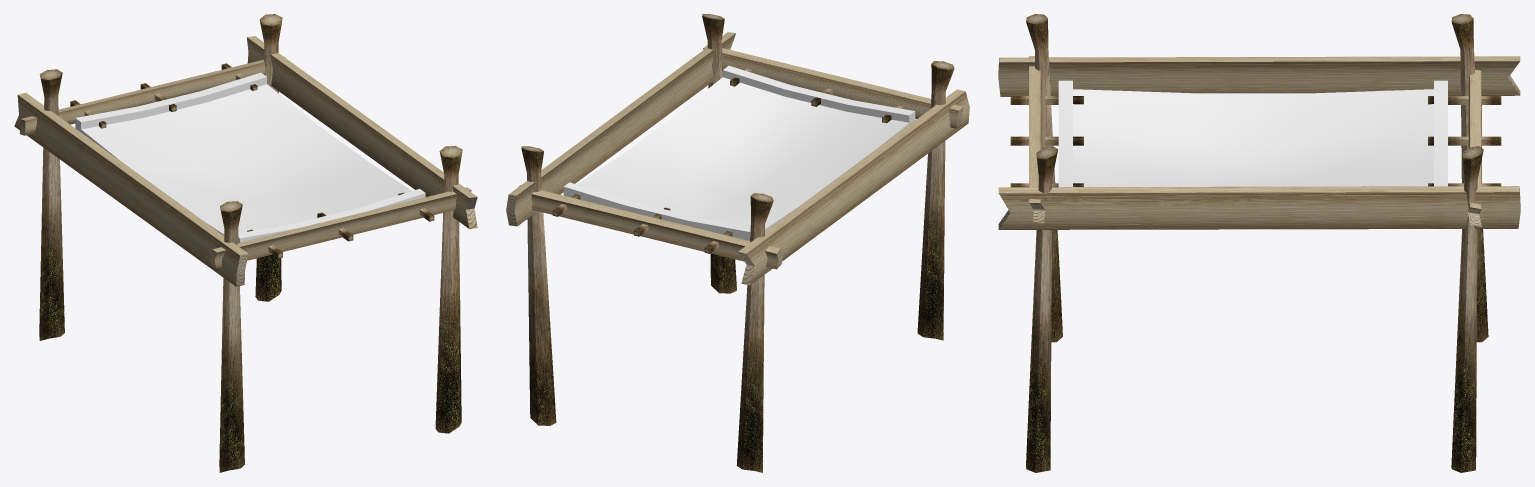
The model's file is p2_platform_trampoline.fbx.
The picture shows the model from 3 angles, left to right: view 1: azimuth 30°, elevation 25°; view 2: azimuth 150°, elevation 25°; view 3: azimuth 270°, elevation 25°; orthographic projection. The views are drawn at different scales.
Visible parts, largest first — view 1: bridge, shackroof; view 2: bridge, shackroof; view 3: bridge, shackroof.
Boxes of the visible parts, x1,y1,x2,y2 form: bridge: (14, 14, 477, 472); shackroof: (75, 72, 425, 242); bridge: (506, 14, 969, 472); shackroof: (563, 65, 915, 240); bridge: (998, 14, 1520, 472); shackroof: (1058, 80, 1447, 187).
Bounding box in the file's own units: 338 × 342 × 495.
